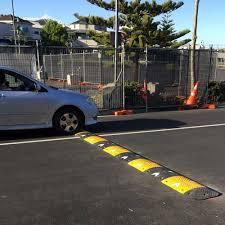Bump: (74, 128, 224, 203)
